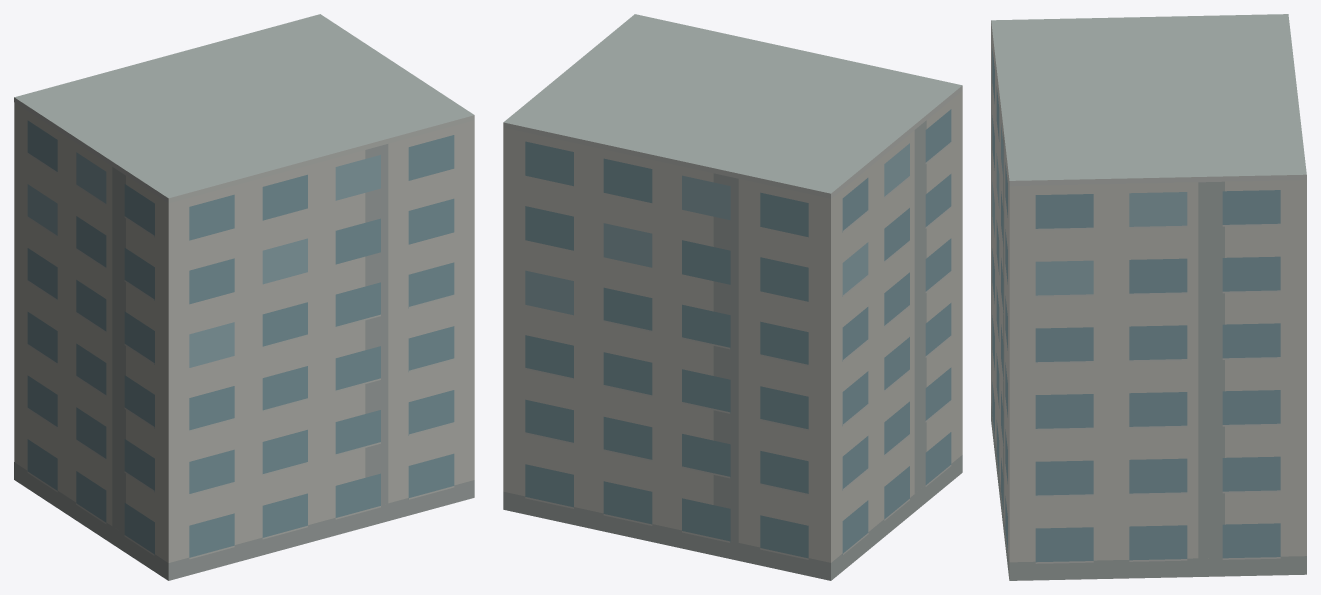
The model's file is survey-upis-33022426.glb.
3 renders of one model, left to right at view 1: azimuth 30°, elevation 25°; view 2: azimuth 150°, elevation 25°; view 3: azimuth 270°, elevation 25°, orthographic. The views are drawn at different scales.
Parts seen in each view (by area): view 1: survey-upis-33022426.tmp; view 2: survey-upis-33022426.tmp; view 3: survey-upis-33022426.tmp.
Boxes of the visible parts, left/top/right/bottom form: survey-upis-33022426.tmp: left=14, top=14, right=474, bottom=580; survey-upis-33022426.tmp: left=503, top=14, right=962, bottom=580; survey-upis-33022426.tmp: left=991, top=14, right=1306, bottom=580.
Bounding box in the file's own units: 16.39 × 18.3 × 13.1.
